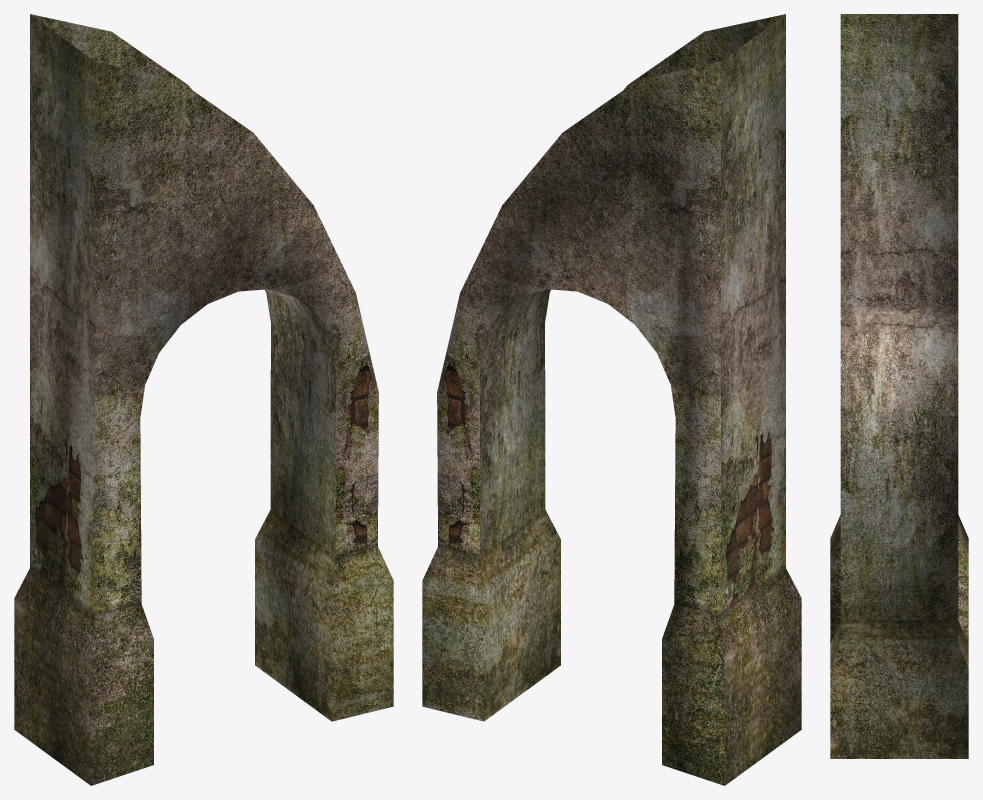
The model's file is pillar.DAE.
The picture shows the model from 3 angles, left to right: view 1: azimuth 30°, elevation 25°; view 2: azimuth 150°, elevation 25°; view 3: azimuth 270°, elevation 25°; orthographic projection. The views are drawn at different scales.
Parts seen in each view (by area): view 1: pillar_arch; view 2: pillar_arch; view 3: pillar_arch.
Part boxes in pixels (bbox=[...]): pillar_arch: bbox=[14, 14, 393, 785]; pillar_arch: bbox=[422, 14, 801, 785]; pillar_arch: bbox=[830, 14, 968, 758].
Bounding box in the file's own units: 2.46 × 5.57 × 1.08.
